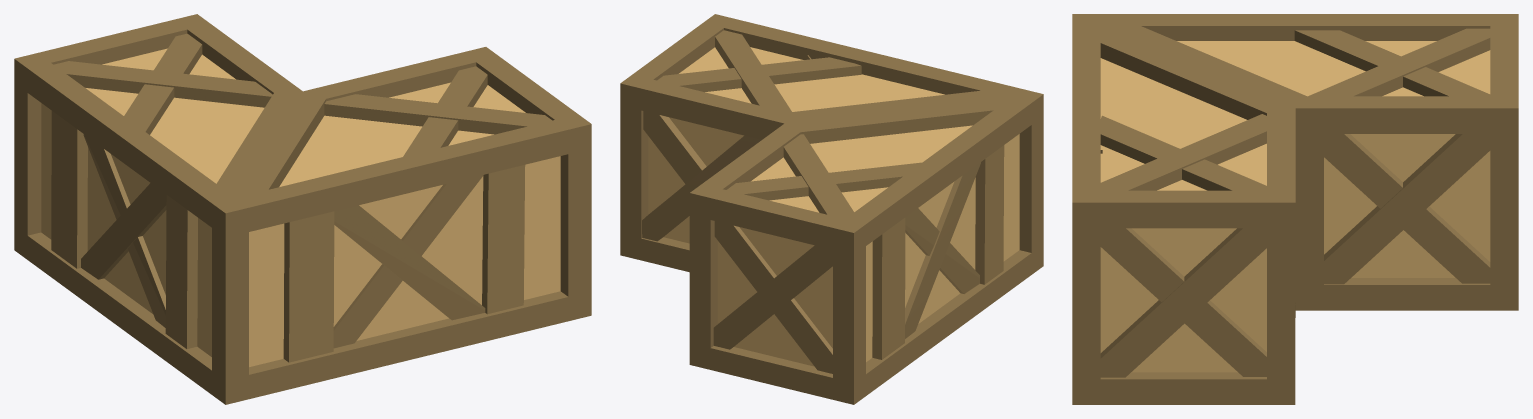
File: Wood_Small_L_Box.fbx
3 views of the same model, side by side, from view 1: azimuth 30°, elevation 25°; view 2: azimuth 150°, elevation 25°; view 3: azimuth 270°, elevation 25° (orthographic). The views are drawn at different scales.
Visible parts, largest first — view 1: Cube.124; view 2: Cube.124; view 3: Cube.124.
Boxes of the visible parts, box(x1,y1,x2,y2) form: Cube.124: box(14, 14, 591, 404); Cube.124: box(620, 14, 1043, 404); Cube.124: box(1072, 14, 1518, 404).
Size of the model in its own units: 200 by 100 by 200.
